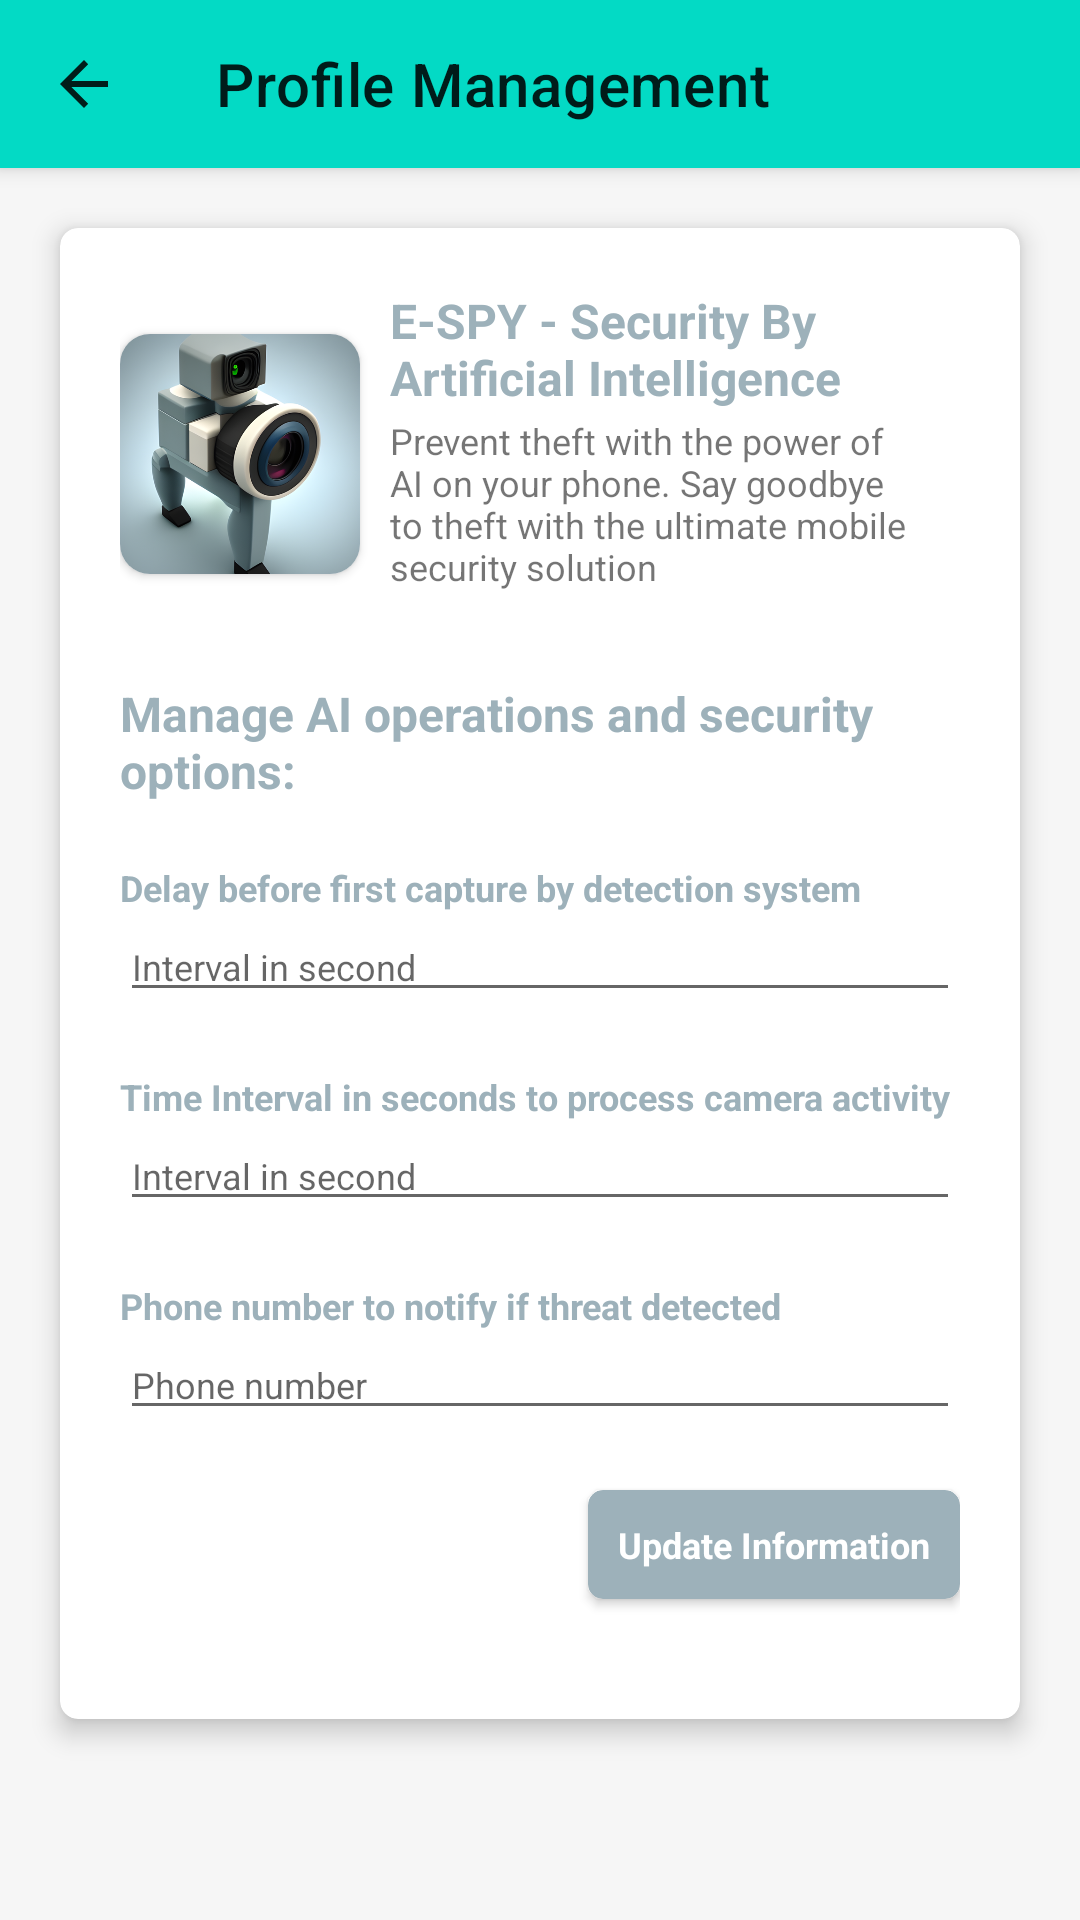

Icon click points for this 1080px×1920px phone screenshot, format [x,y]:
application: [240,454]
